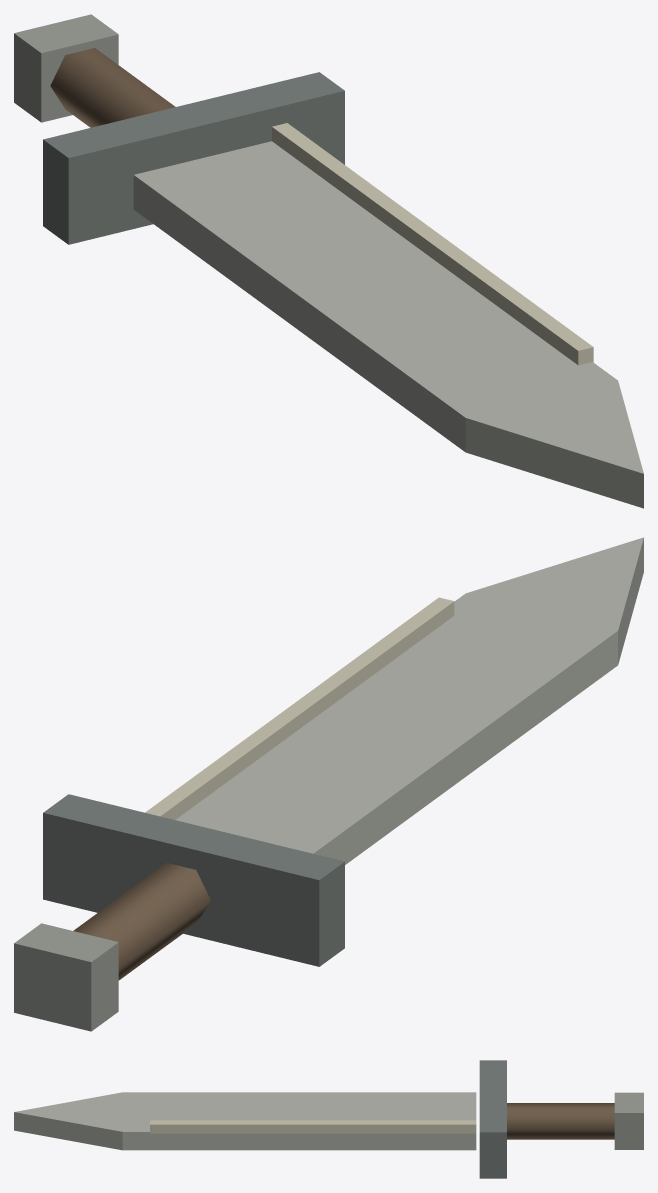
Rendered from spread-portable-temperedlongsword.fbx.
3 views of the same model, one above another, from view 1: azimuth 30°, elevation 25°; view 2: azimuth 150°, elevation 25°; view 3: azimuth 270°, elevation 25° (orthographic). The views are drawn at different scales.
Visible parts, largest first — view 1: spread-portable-temperedlongsword__Geometry; view 2: spread-portable-temperedlongsword__Geometry; view 3: spread-portable-temperedlongsword__Geometry.
Boxes of the visible parts, x1,y1,x2,y2 form: spread-portable-temperedlongsword__Geometry: (14, 14, 643, 508); spread-portable-temperedlongsword__Geometry: (14, 537, 643, 1031); spread-portable-temperedlongsword__Geometry: (14, 1060, 643, 1178).
Bounding box in the file's own units: 0.25 × 0.075 × 0.9265.
